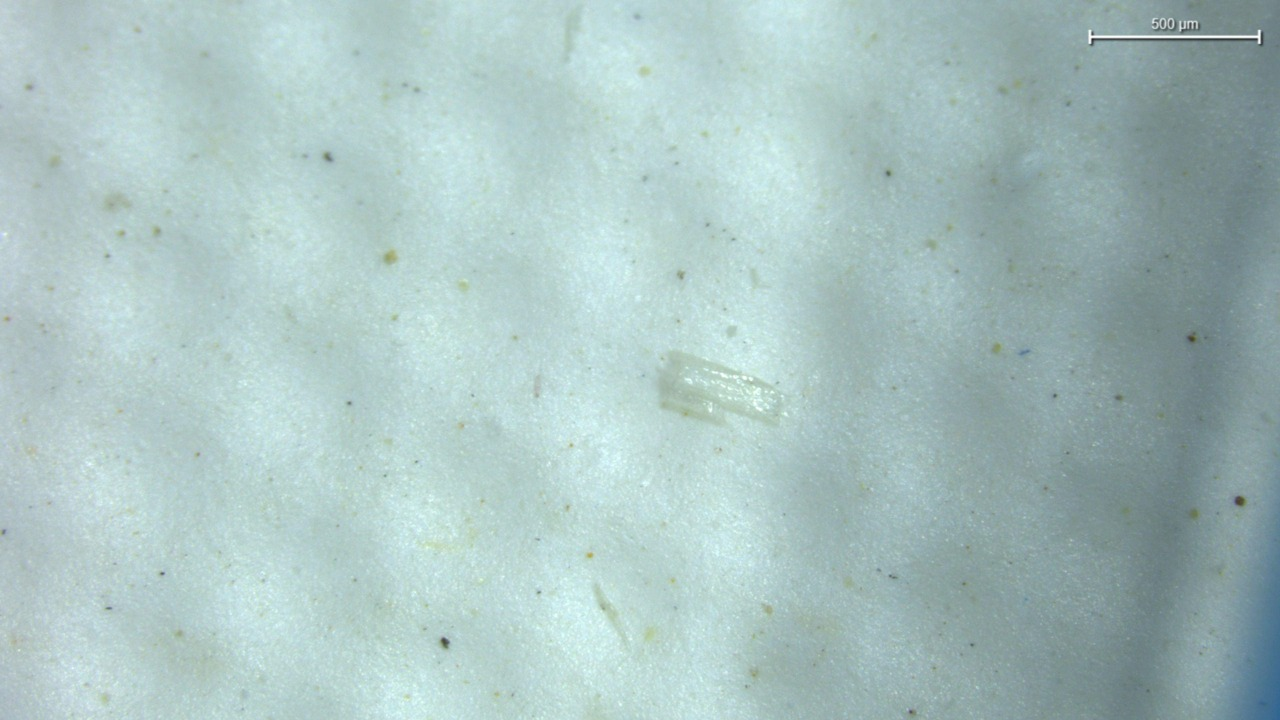microplastic_fragment: (660, 351, 784, 424)
